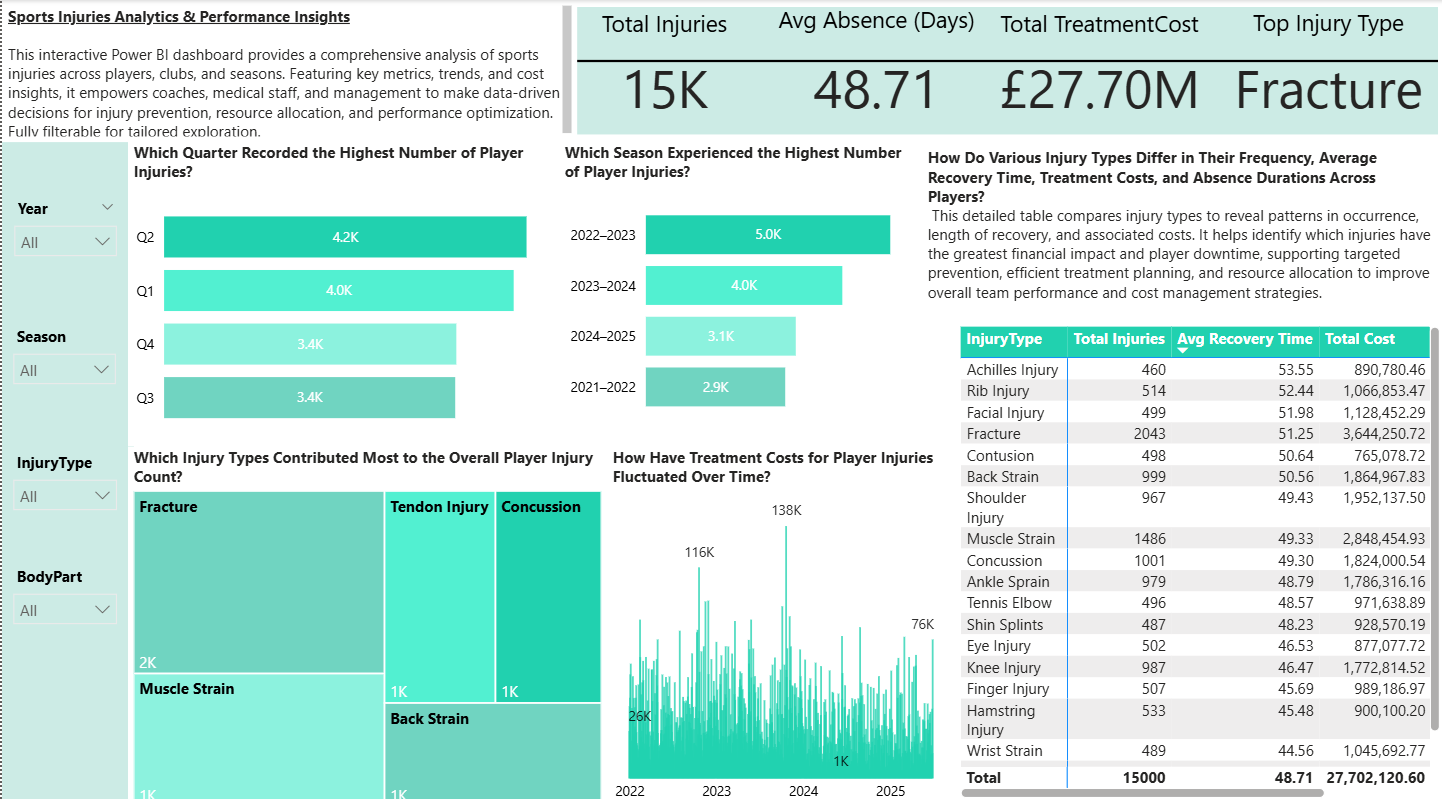

What the dashboard file says about the page in this screenshot:
{"tool":"powerbi","page":{"name":"Injury Overview & Trends","canvas":[1280,720],"ordinal":0},"visuals":[{"type":"shape","box":[466.4,6.2,806.9,113.5],"z":0},{"type":"card","title":"Total Injuries","fields":{"Values":["Injury Overview & Trends Measures.Total Injuries"]},"box":[503.6,6.2,167.6,113.5],"z":1000},{"type":"card","title":"Avg Absence (Days)","fields":{"Values":["Injury Overview & Trends Measures.Avg Absence"]},"box":[676.6,2.7,197.7,119.7],"z":2000},{"type":"card","title":"Total TreatmentCost","fields":{"Values":["Injury Overview & Trends Measures.Total Cost"]},"box":[874.3,6.2,197.7,112.6],"z":3000},{"type":"card","title":"Top Injury Type","fields":{"Values":["Min(DimInjuryType.InjuryType)"]},"box":[1072,5.3,208.4,114.4],"z":4000},{"type":"shape","box":[466.4,47.9,806.9,12.4],"z":5000},{"type":"shape","box":[0,125.9,117,594.1],"z":6000},{"type":"clusteredBarChart","title":"Which Quarter Recorded the Highest Number of Player Injuries?","fields":{"Category":["Calendar.Quarter"],"Y":["Injury Overview & Trends Measures.Total Injuries"]},"box":[111.7,125.9,382.2,270.4],"z":7000},{"type":"clusteredBarChart","title":"Which Season Experienced the Highest Number of Player Injuries?","fields":{"Category":["FactInjuries.Season"],"Y":["Injury Overview & Trends Measures.Total Injuries"]},"box":[493.9,125.9,321.9,258.9],"z":8000},{"type":"treemap","title":"Which Injury Types Contributed Most to the Overall Player Injury Count?","fields":{"Group":["DimInjuryType.InjuryType"],"Values":["Injury Overview & Trends Measures.Total Injuries"]},"box":[111.7,396.4,424.7,323.6],"z":9000},{"type":"clusteredColumnChart","title":"How Have Treatment Costs for Player Injuries Fluctuated Over Time?","fields":{"Category":["FactInjuries.InjuryDate"],"Y":["Sum(FactInjuries.CostOfTreatmentEuros)"]},"box":[536.5,396.4,308.6,323.6],"z":10000},{"type":"pivotTable","fields":{"Rows":["DimInjuryType.InjuryType"],"Values":["Injury Overview & Trends Measures.Total Injuries","Injury Overview & Trends Measures.Avg Recovery Time","Injury Overview & Trends Measures.Total Cost","Injury Overview & Trends Measures.Avg Absence"]},"box":[845,284.6,435.4,428.3],"z":11000},{"type":"textbox","box":[816,126,457,159],"z":12000},{"type":"slicer","fields":{"Values":["Calendar.Year"]},"box":[0.9,171.1,110.8,61.2],"z":13000},{"type":"slicer","fields":{"Values":["FactInjuries.Season"]},"box":[0,284.6,110.8,61.2],"z":14000},{"type":"slicer","fields":{"Values":["DimInjuryType.InjuryType"]},"box":[0,396.4,111.7,61.2],"z":15000},{"type":"slicer","fields":{"Values":["DimInjuryType.BodyPart"]},"box":[0,497.4,111.7,61.2],"z":16000},{"type":"textbox","box":[0,0,509.9,125.9],"z":17000}]}

Visuals, with their boxes in screenshot pixels (x1, y1, x2, y2), scaled from the page's 1280x720 canvas onto the 1442x799 screenshot:
shape: 525 7 1434 133
"Total Injuries" card: 567 7 756 133
"Avg Absence (Days)" card: 762 3 985 136
"Total TreatmentCost" card: 985 7 1208 132
"Top Injury Type" card: 1208 6 1441 133
shape: 525 53 1434 67
shape: 0 140 132 798
"Which Quarter Recorded the Highest Number of Player Injuries?" clusteredBarChart: 126 140 556 440
"Which Season Experienced the Highest Number of Player Injuries?" clusteredBarChart: 556 140 919 427
"Which Injury Types Contributed Most to the Overall Player Injury Count?" treemap: 126 440 604 798
"How Have Treatment Costs for Player Injuries Fluctuated Over Time?" clusteredColumnChart: 604 440 952 798
pivotTable - DimInjuryType.InjuryType x Injury Overview & Trends Measures.Total Injuries: 952 316 1441 791
textbox: 919 140 1434 316
slicer - Calendar.Year: 1 190 126 258
slicer - FactInjuries.Season: 0 316 125 384
slicer - DimInjuryType.InjuryType: 0 440 126 508
slicer - DimInjuryType.BodyPart: 0 552 126 620
textbox: 0 0 574 140
